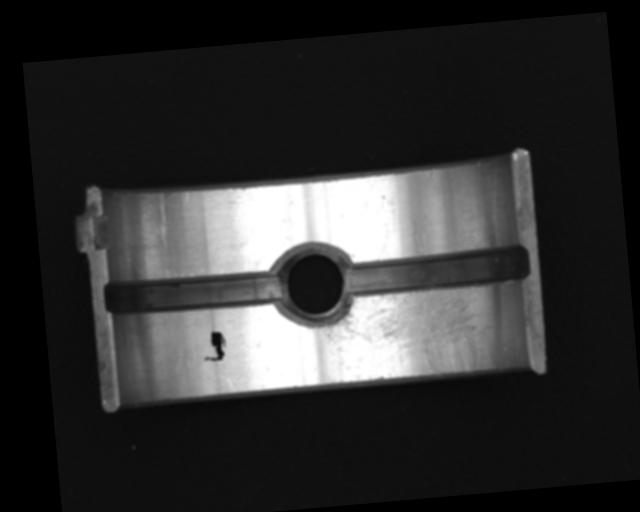blot: (202, 329, 228, 364)
gap: (344, 244, 531, 298), (103, 268, 282, 317)
hole: (270, 245, 356, 329)
nick: (155, 195, 171, 246)
scratch: (315, 284, 499, 384)
